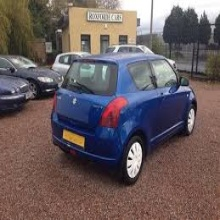no damage: (51, 52, 197, 182), (1, 55, 65, 94), (1, 74, 38, 112)
